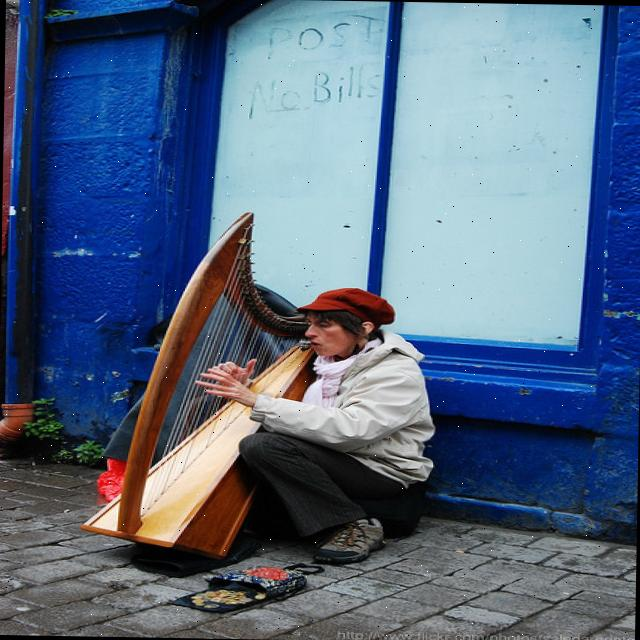harp: (78, 207, 344, 566)
